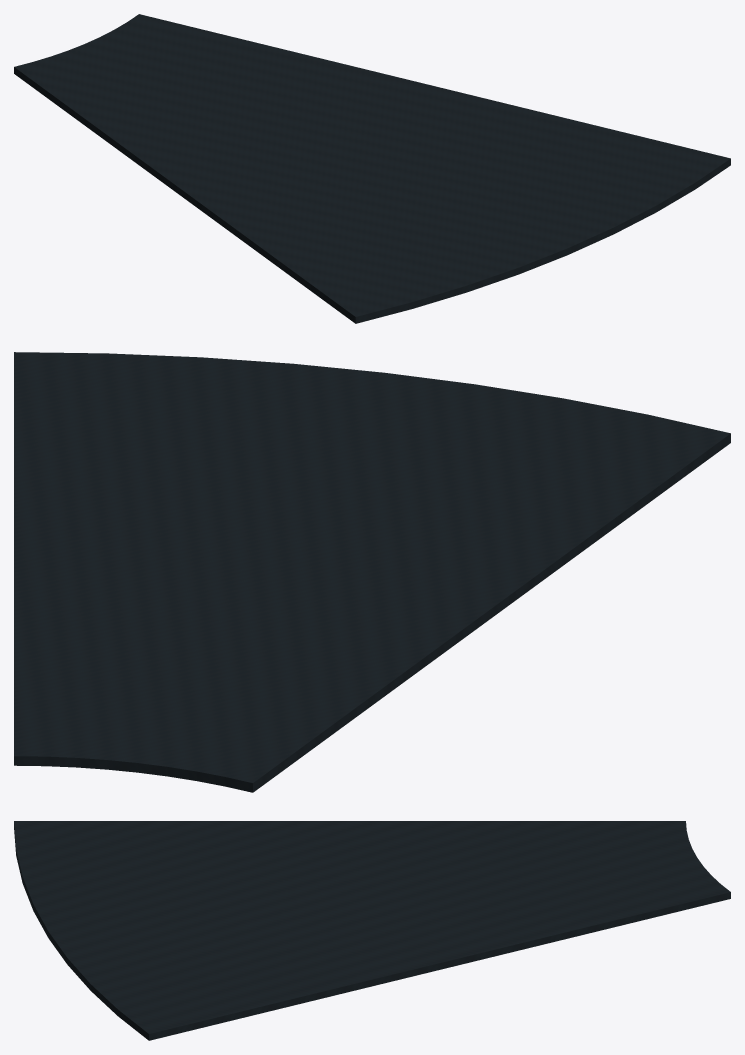
Rendered from Transit_Road_6L_Curve30_R18_Surface.glb.
3 views of the same model, one above another, from view 1: azimuth 30°, elevation 25°; view 2: azimuth 150°, elevation 25°; view 3: azimuth 270°, elevation 25° (orthographic). The views are drawn at different scales.
Parts seen in each view (by area): view 1: Transit_Road_6L_Curve30_R18_Surface; view 2: Transit_Road_6L_Curve30_R18_Surface; view 3: Transit_Road_6L_Curve30_R18_Surface.
Part boxes in pixels (x1,y1,x2,y2): Transit_Road_6L_Curve30_R18_Surface: (14, 14, 730, 323); Transit_Road_6L_Curve30_R18_Surface: (14, 352, 730, 792); Transit_Road_6L_Curve30_R18_Surface: (14, 821, 730, 1040).
Size of the model in its own units: 13.5 by 0.2 by 19.21.
Materials: 1 (1 with a texture image).
